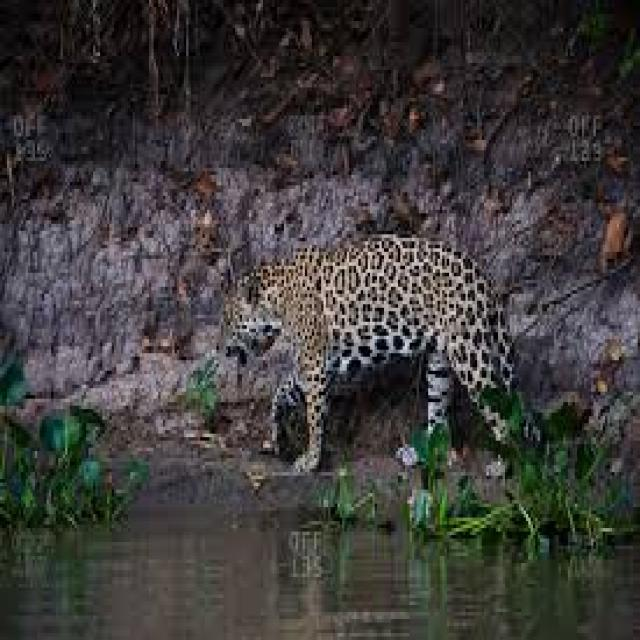Jaguar: (224, 227, 524, 483)
